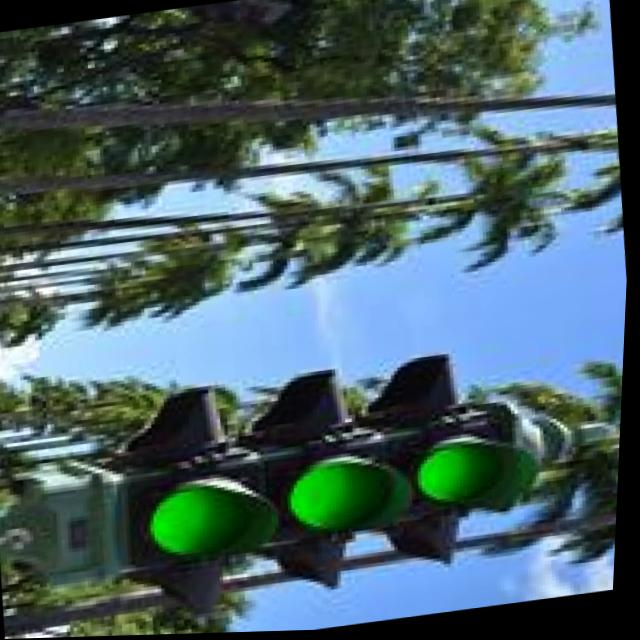green_light: (393, 367, 561, 548)
